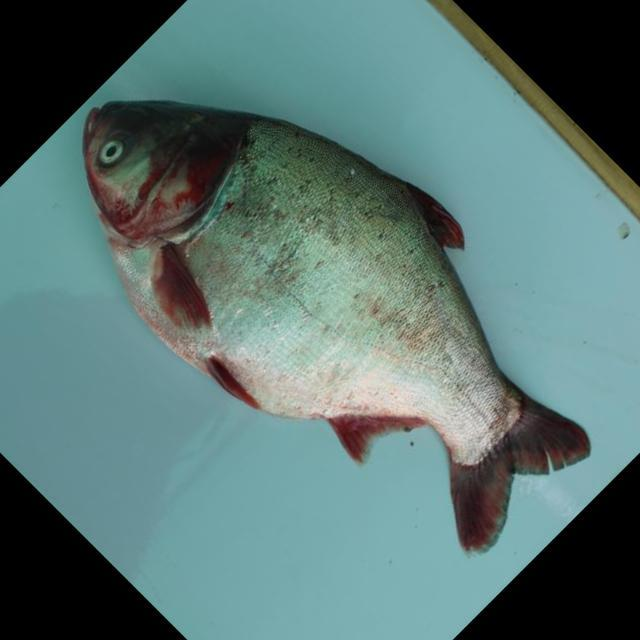SilverCarp: (76, 90, 588, 537)
